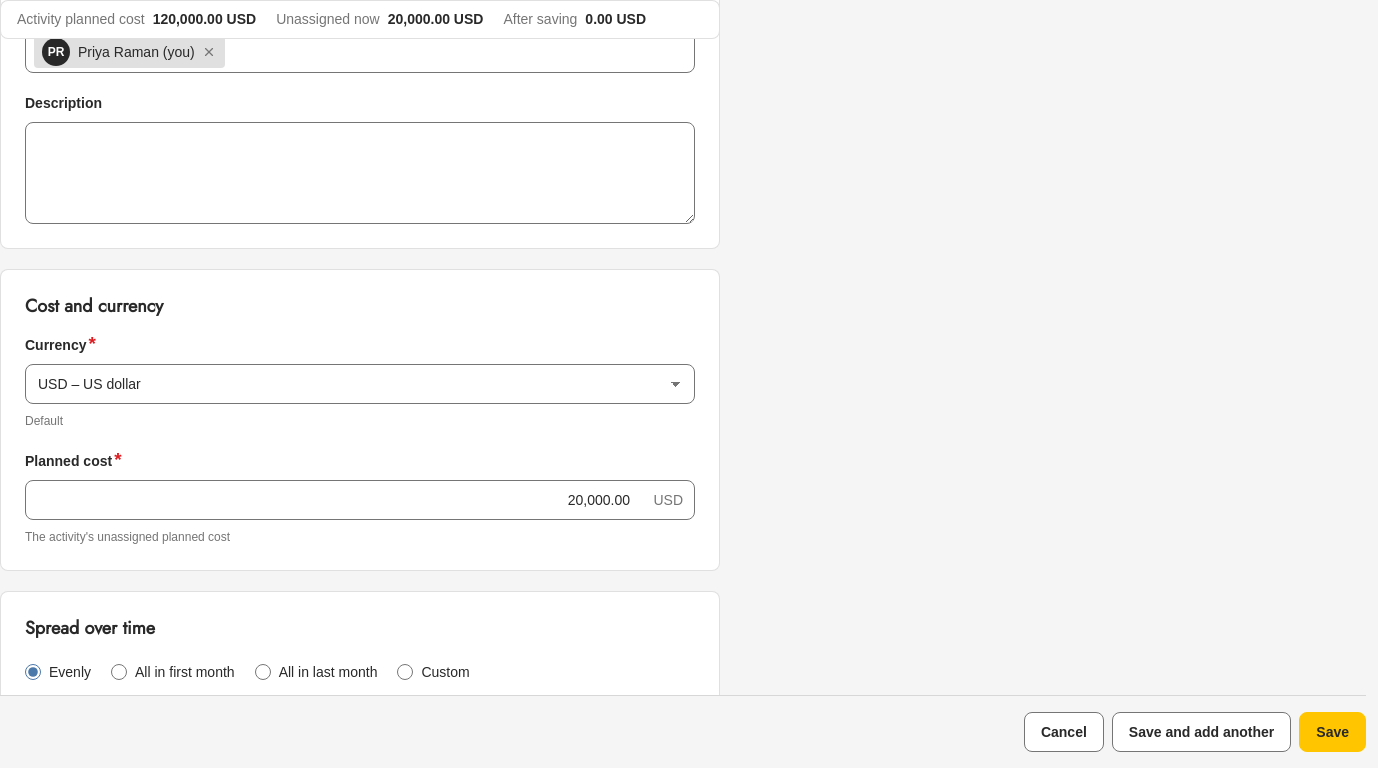
Test: LineItemCreatePage, cost and currency (US2) › converts the balance when the currency changes and shows the USD amount live (scenario 2, FR-011, FR-012)
(page scrolled)
Select "EUR – Euro" in the dropdown labelled "Currency" at (360, 384), box left=25, top=364, right=695, bottom=404
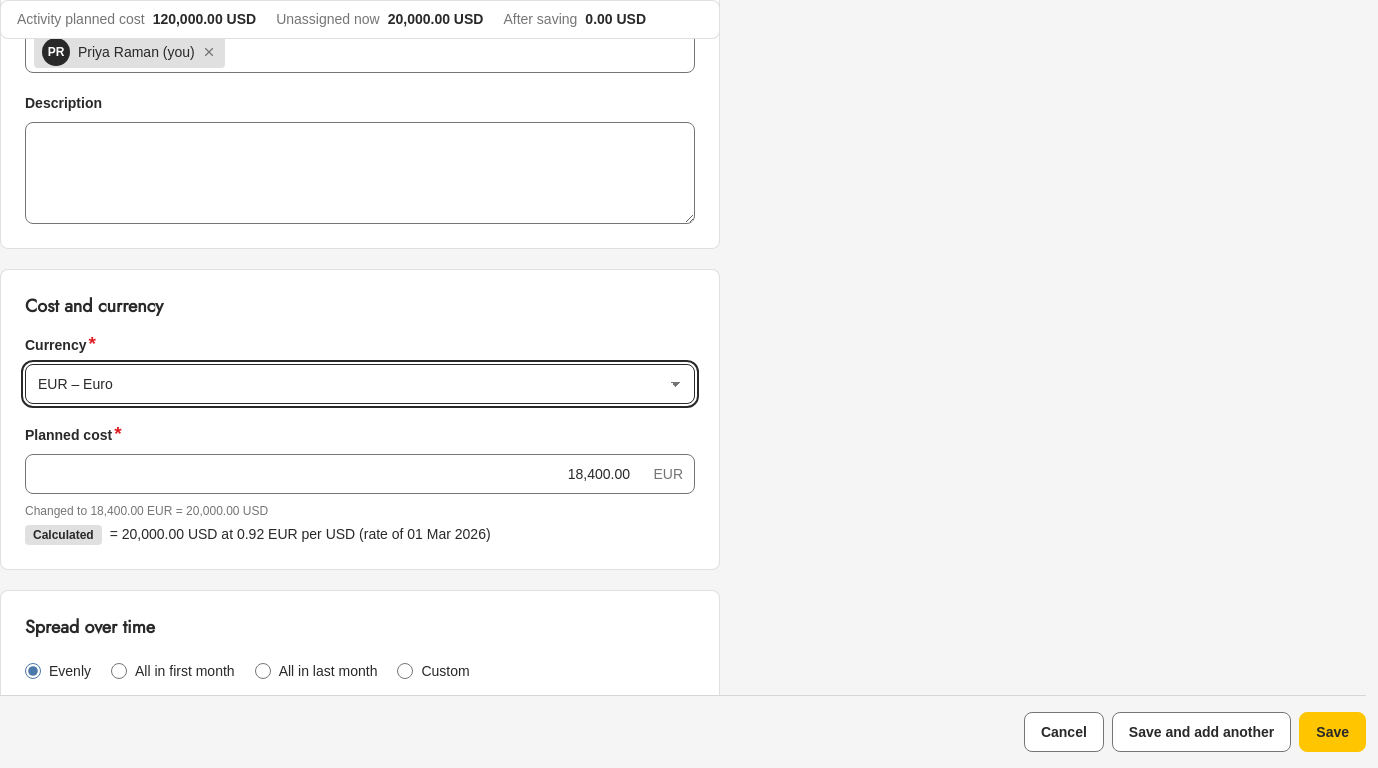
Now the field labelled "Planned cost" holds "18,400.00"
Now the text "Changed to 18,400.00 EUR = 20,000.00 USD" is shown, box left=25, top=504, right=268, bottom=518
Replace the text in the field labelled "Planned cost" with "10000" at (360, 474), box left=25, top=454, right=695, bottom=494
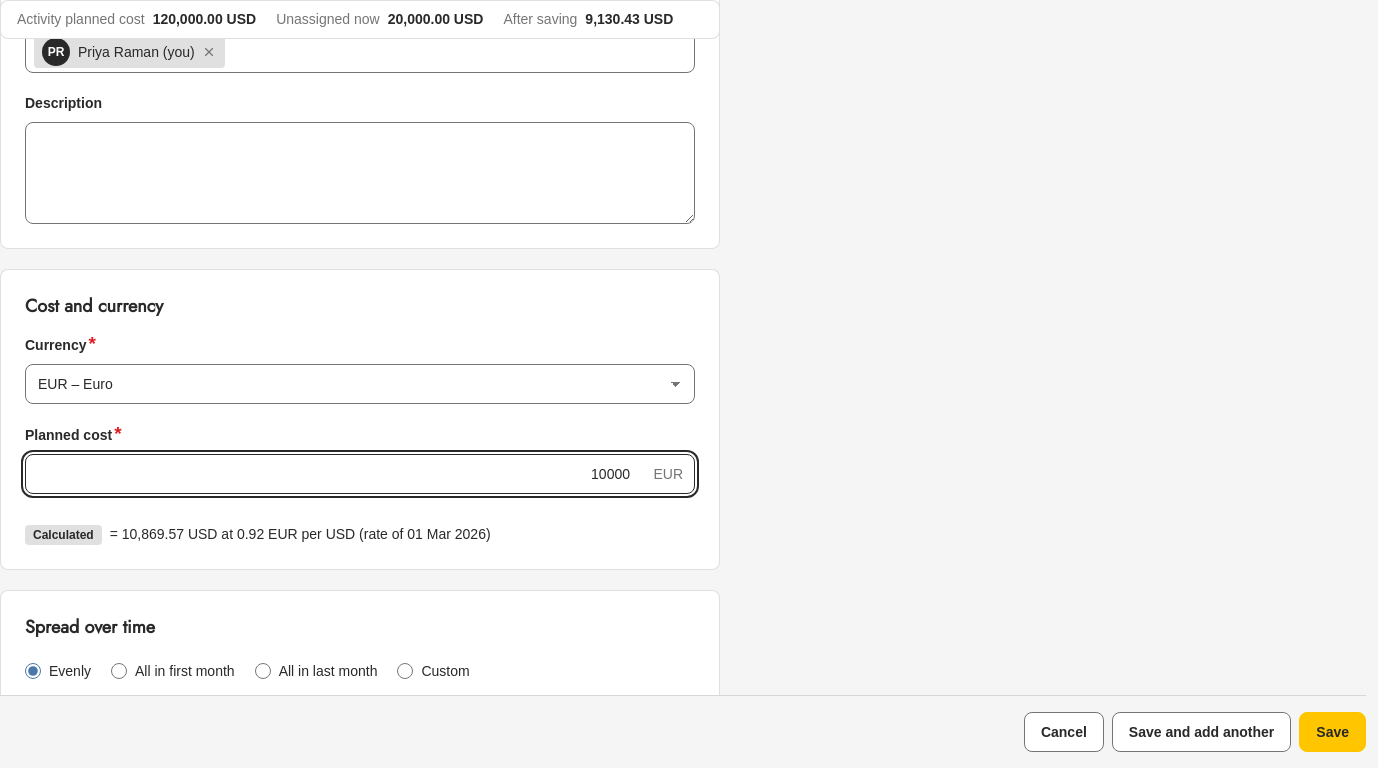
Expected: the text "Calculated" is shown, left=25, top=524, right=102, bottom=544
Now the text "= 10,869.57 USD at 0.92 EUR per USD (rate of 01 Mar 2026)" is shown, box left=110, top=524, right=491, bottom=545
